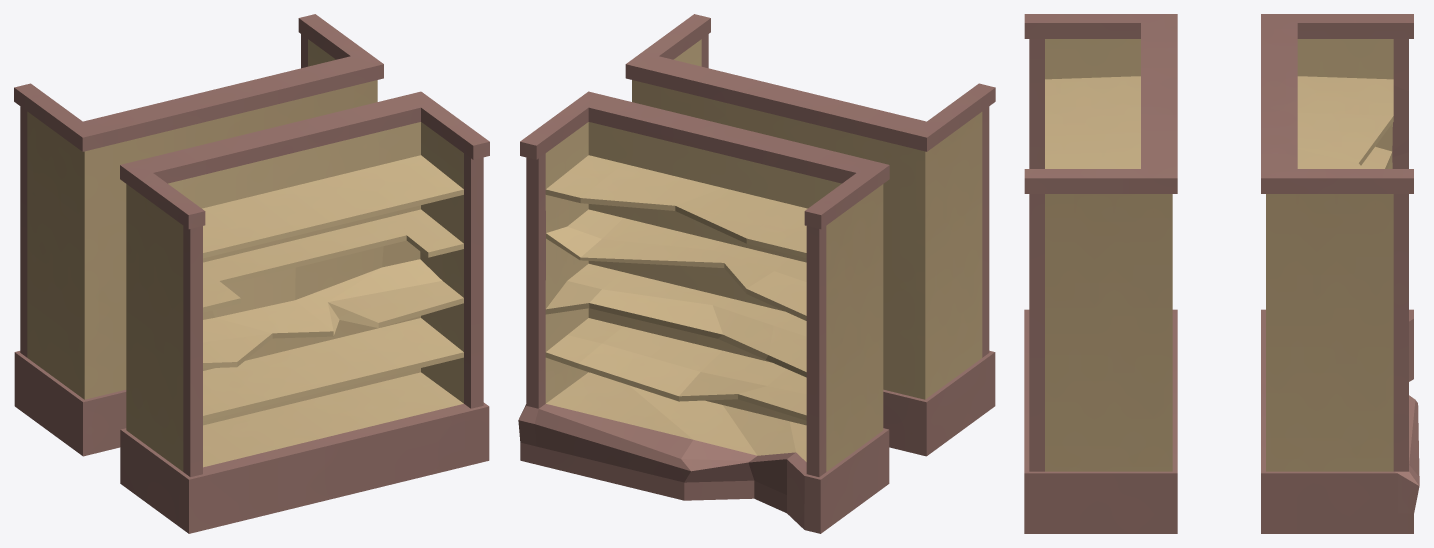
The model's file is shelf_3_A.glb.
The picture shows the model from 3 angles, left to right: view 1: azimuth 30°, elevation 25°; view 2: azimuth 150°, elevation 25°; view 3: azimuth 270°, elevation 25°; orthographic projection. The views are drawn at different scales.
Parts seen in each view (by area): view 1: shelf_3_A; view 2: shelf_3_A; view 3: shelf_3_A.
Boxes of the visible parts, <box> form: shelf_3_A: <box>14,14,489,533</box>; shelf_3_A: <box>518,14,995,533</box>; shelf_3_A: <box>1024,14,1419,533</box>.
Size of the model in its own units: 1.2 by 1.22 by 1.22.
Materials: 1 (1 with a texture image).
